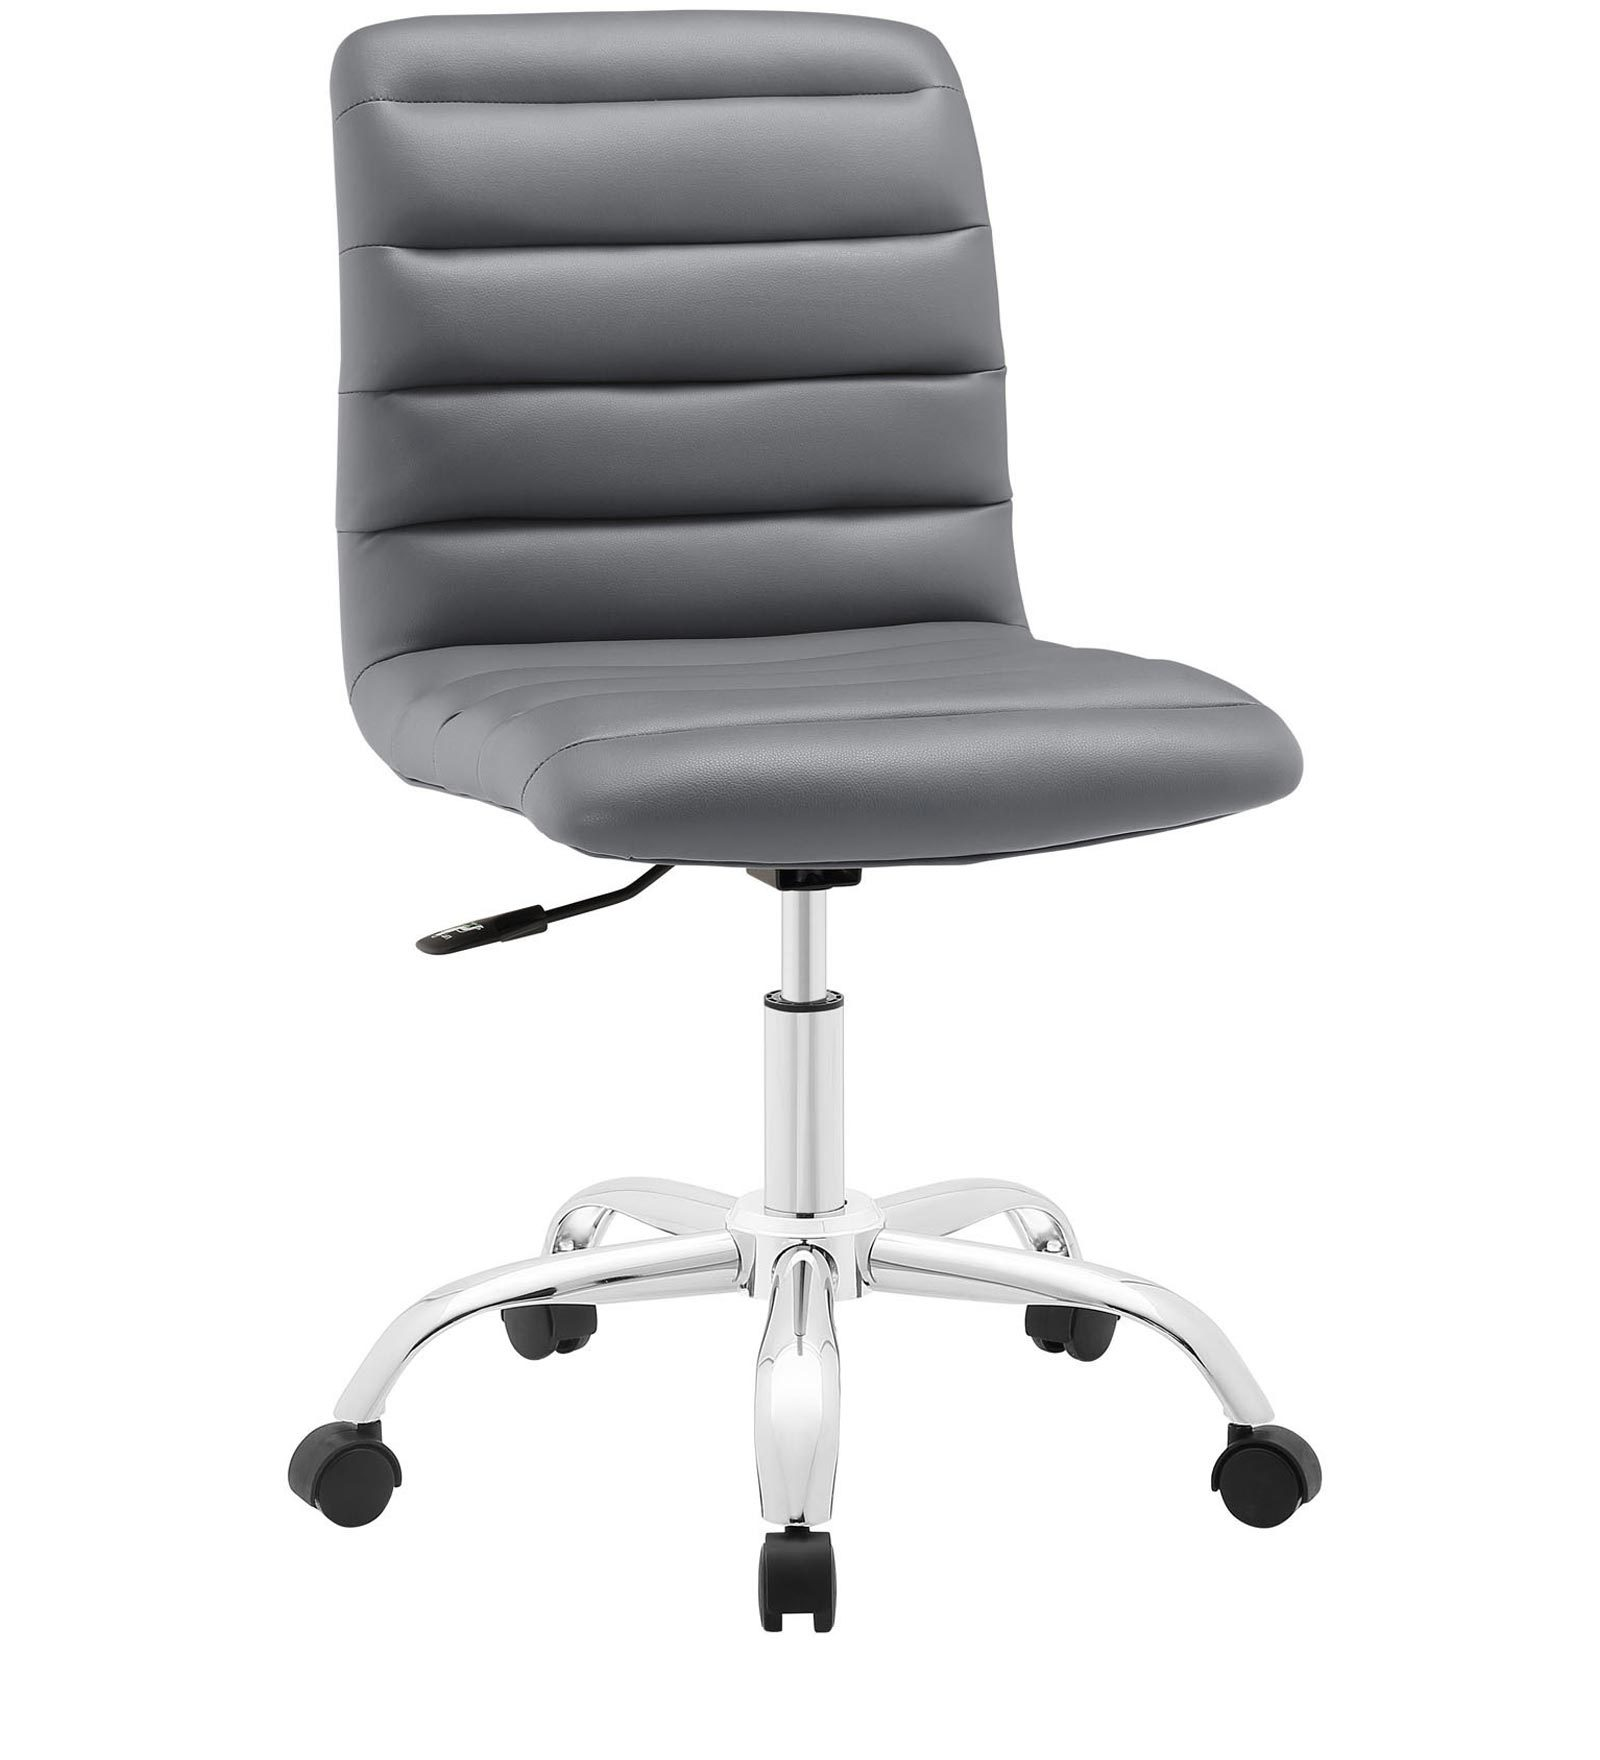Tangy Ergonomic Chair in Grey Leatherette by Exclusive Furniture: (126, 3, 1448, 1674)
